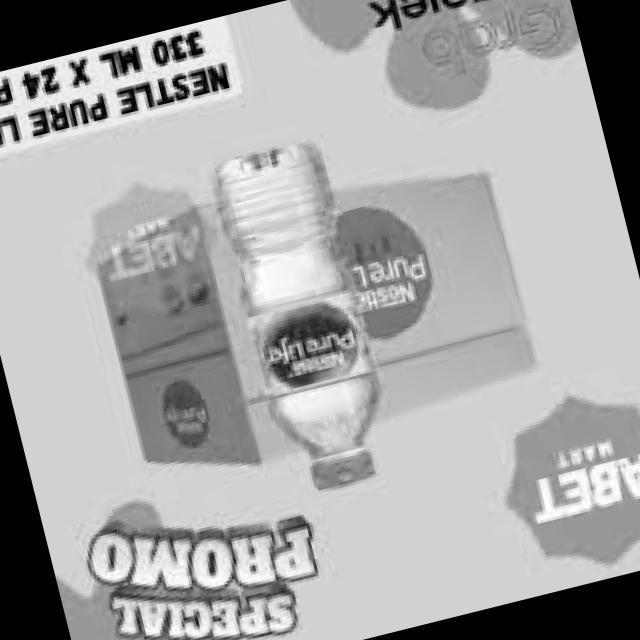good: (162, 122, 414, 517)
